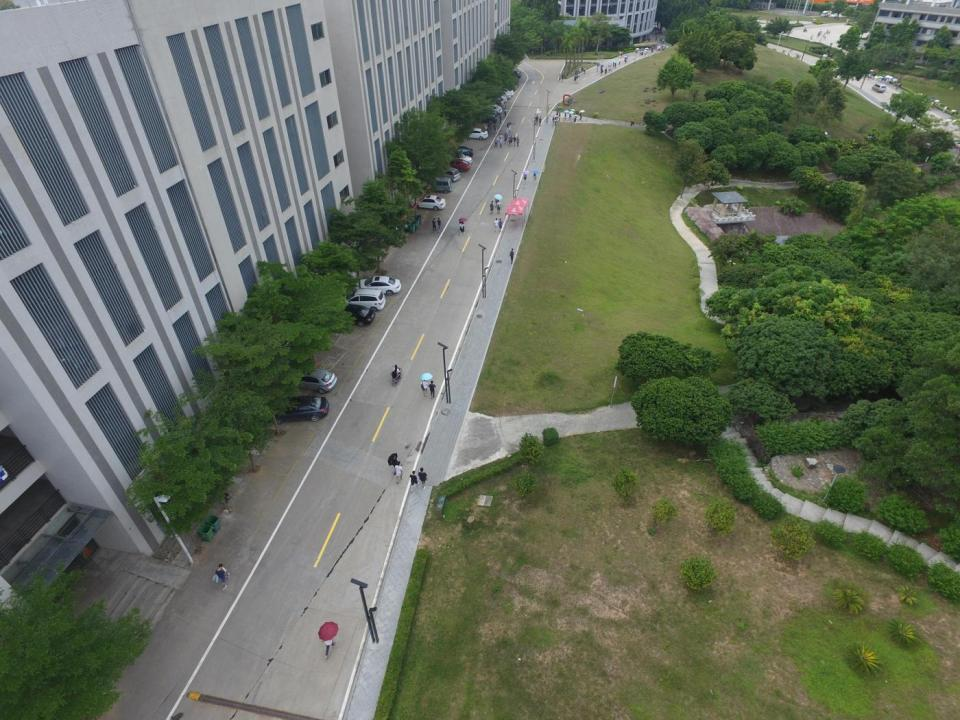car: (267, 396, 329, 425), (288, 368, 337, 394), (352, 275, 401, 296), (342, 289, 386, 311), (335, 304, 376, 326), (410, 194, 446, 210), (436, 165, 461, 182), (445, 158, 471, 172), (462, 127, 489, 140), (451, 144, 474, 158), (448, 151, 472, 163), (476, 112, 498, 124), (484, 103, 502, 114), (495, 94, 508, 103), (498, 90, 511, 99), (501, 87, 514, 96), (490, 99, 505, 106), (509, 70, 522, 78), (831, 12, 839, 18)
truck: (821, 10, 832, 17)
van: (424, 175, 453, 194), (872, 82, 886, 93)
